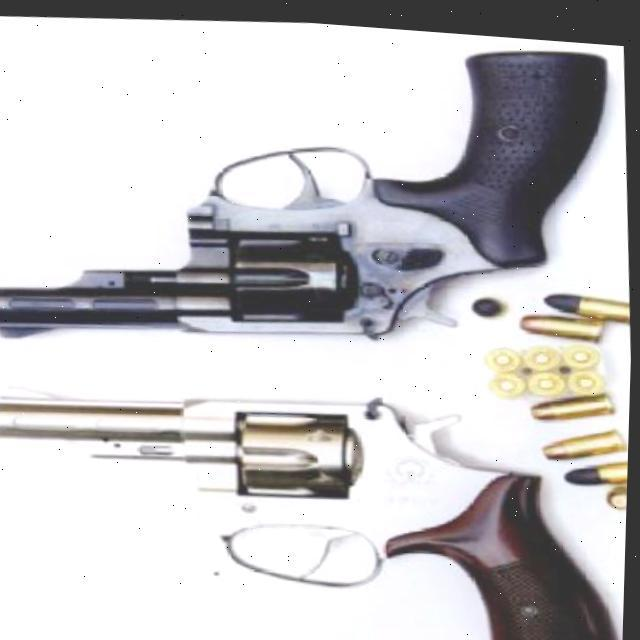gun: (0, 2, 625, 376), (0, 348, 632, 640)
